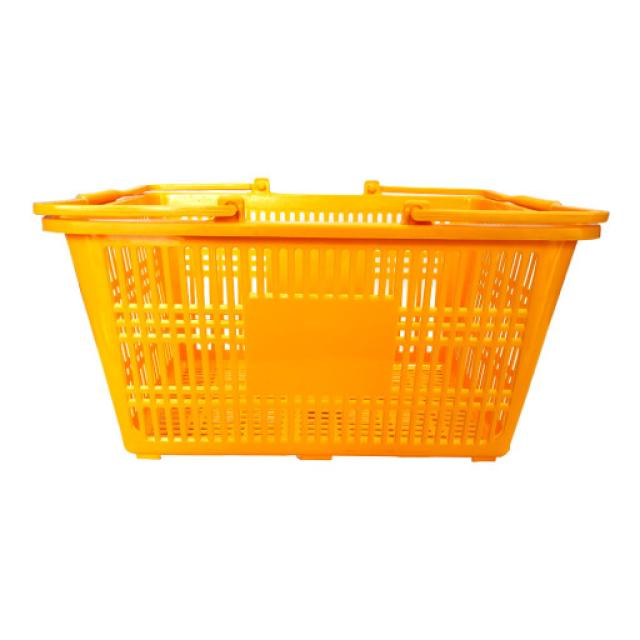basket: (31, 177, 610, 463)
